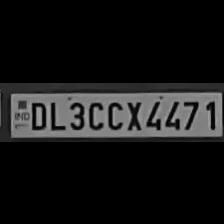1: (201, 97, 219, 128)
3: (65, 98, 85, 130)
4: (143, 97, 161, 129), (162, 97, 180, 129)
7: (180, 97, 198, 129)
C: (86, 98, 104, 130), (105, 98, 123, 130)
D: (28, 98, 46, 130)
L: (47, 98, 63, 130)
X: (122, 98, 142, 130)
